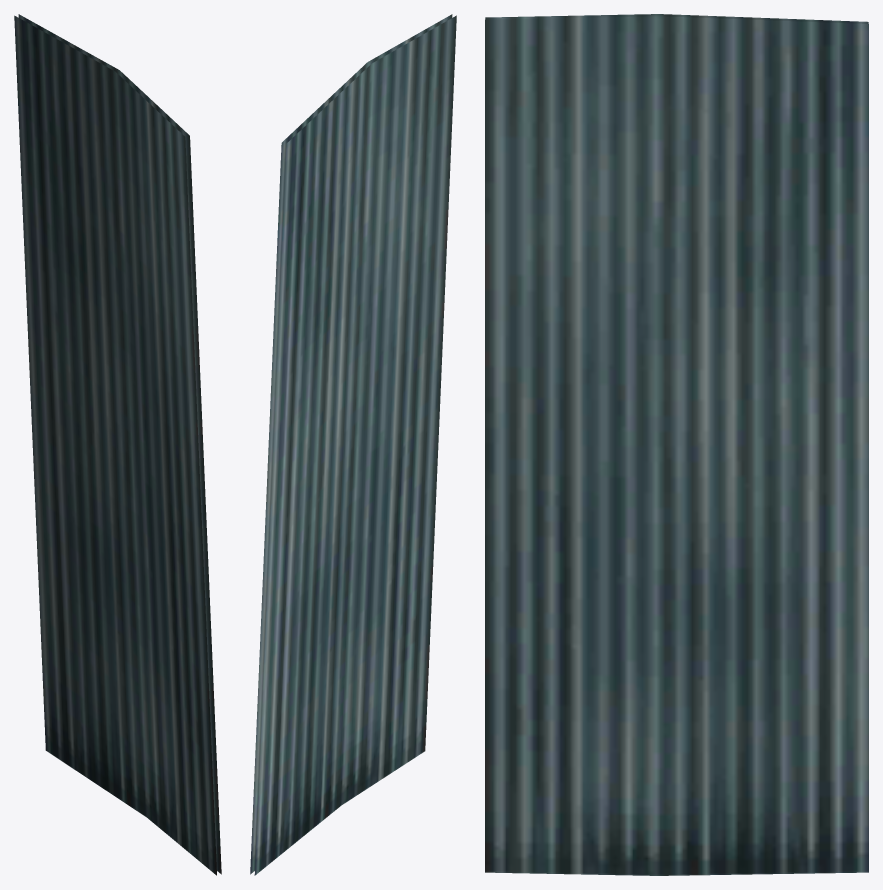
The model's file is plateblue010_plates_0_lev1.glb.
3 renders of one model, left to right at view 1: azimuth 30°, elevation 25°; view 2: azimuth 150°, elevation 25°; view 3: azimuth 270°, elevation 25°, orthographic. The views are drawn at different scales.
Parts seen in each view (by area): view 1: plateblue010_plates_0_lev1; view 2: plateblue010_plates_0_lev1; view 3: plateblue010_plates_0_lev1.
Part boxes in pixels (left/top/right/bottom): plateblue010_plates_0_lev1: left=14, top=14, right=221, bottom=875; plateblue010_plates_0_lev1: left=250, top=14, right=456, bottom=875; plateblue010_plates_0_lev1: left=485, top=14, right=868, bottom=875.
Size of the model in its own units: 0.0512 by 0.8567 by 0.3533.
1 material, 1 textured.
